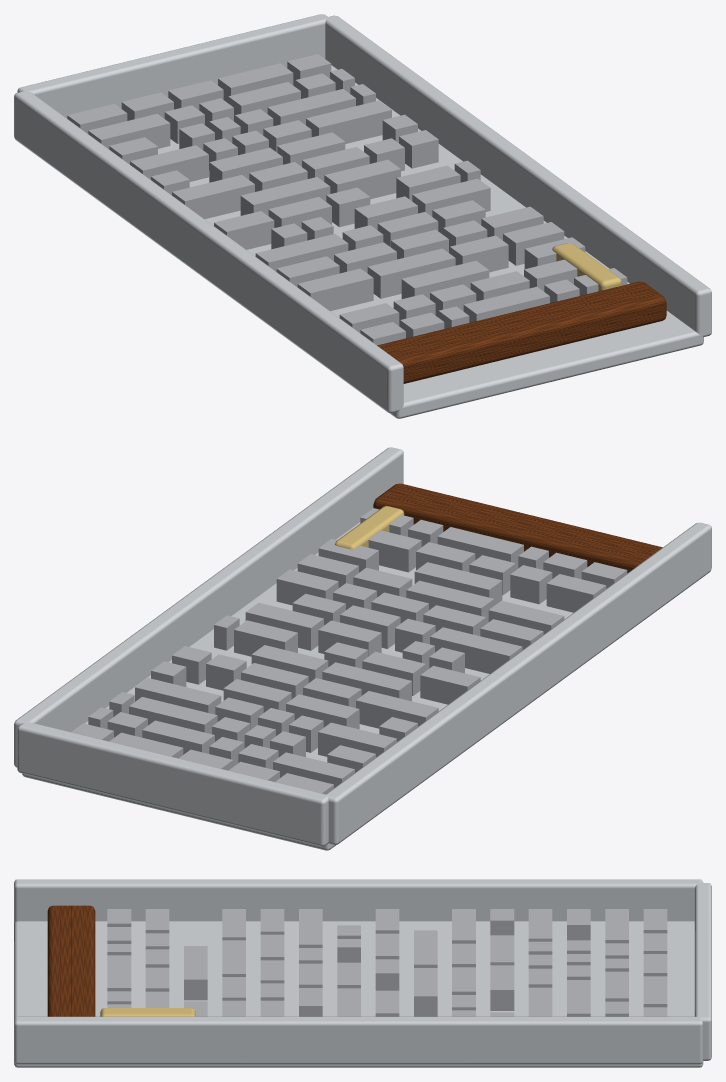
Rendered from printing-press-and-newspaper-office-galley-of-set-type-55364491__37737.glb.
3 renders of one model, top to bottom at view 1: azimuth 30°, elevation 25°; view 2: azimuth 150°, elevation 25°; view 3: azimuth 270°, elevation 25°, orthographic. The views are drawn at different scales.
Parts seen in each view (by area): view 1: galley-of-set-type; view 2: galley-of-set-type; view 3: galley-of-set-type.
Boxes of the visible parts, <box> form: galley-of-set-type: <box>14,14,711,418</box>; galley-of-set-type: <box>14,447,711,850</box>; galley-of-set-type: <box>14,879,711,1067</box>.
Size of the model in its own units: 0.3579 by 0.058 by 0.729.
Materials: 4 (1 with a texture image).
